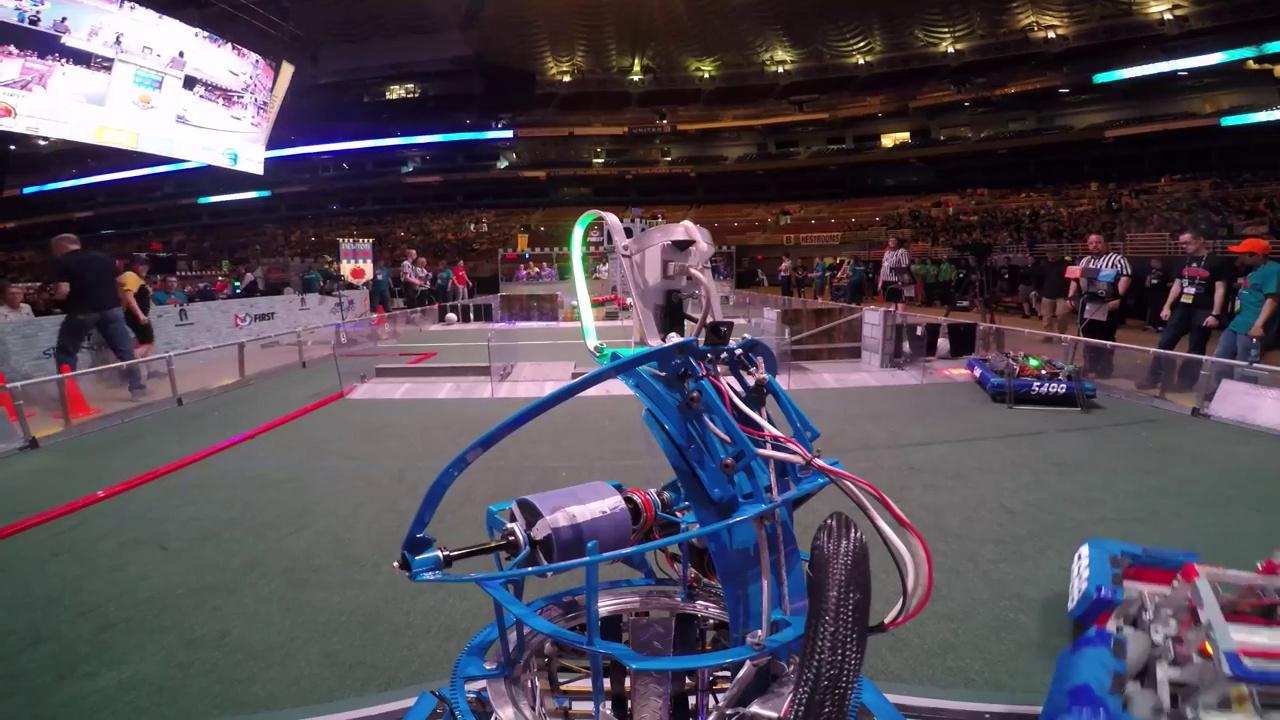robot: (1039, 529, 1280, 720), (964, 344, 1105, 417)
